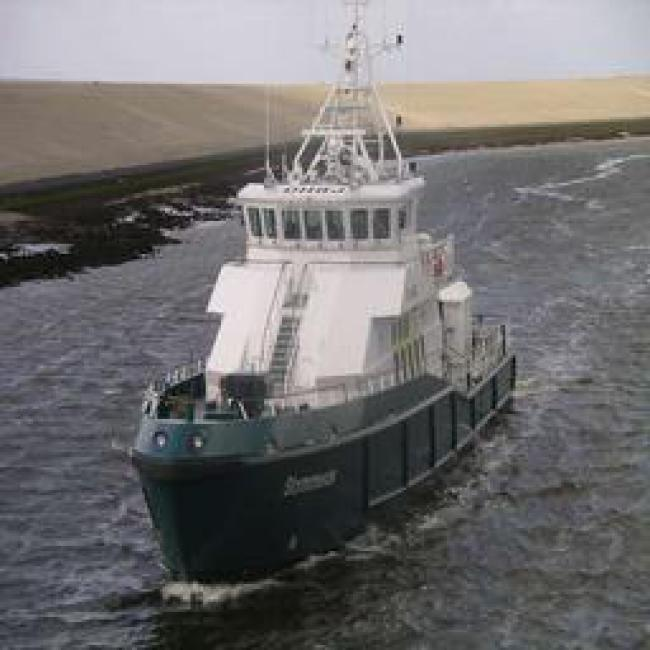Ship: (117, 104, 521, 572)
